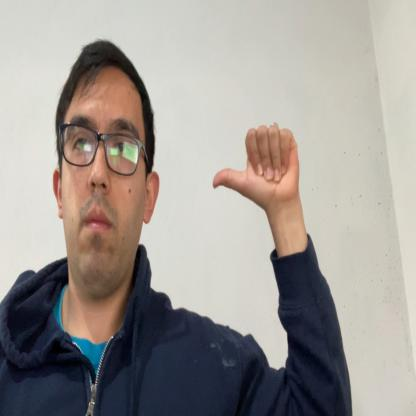A: (212, 120, 301, 209)
